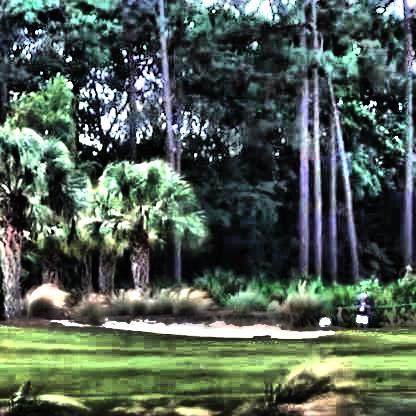golfball: (315, 315, 329, 328)
